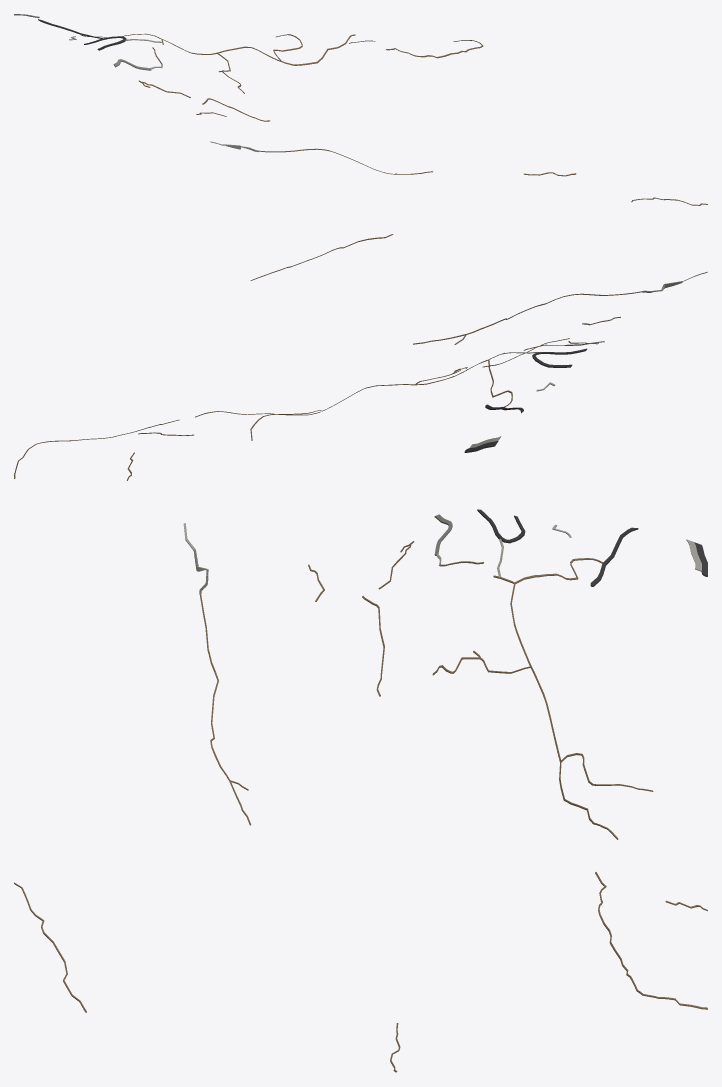
3 renders of one model, top to bottom at view 1: azimuth 30°, elevation 25°; view 2: azimuth 150°, elevation 25°; view 3: azimuth 270°, elevation 25°, orthographic. The views are drawn at different scales.
Size of the model in its own units: 587 by 257 by 583.
